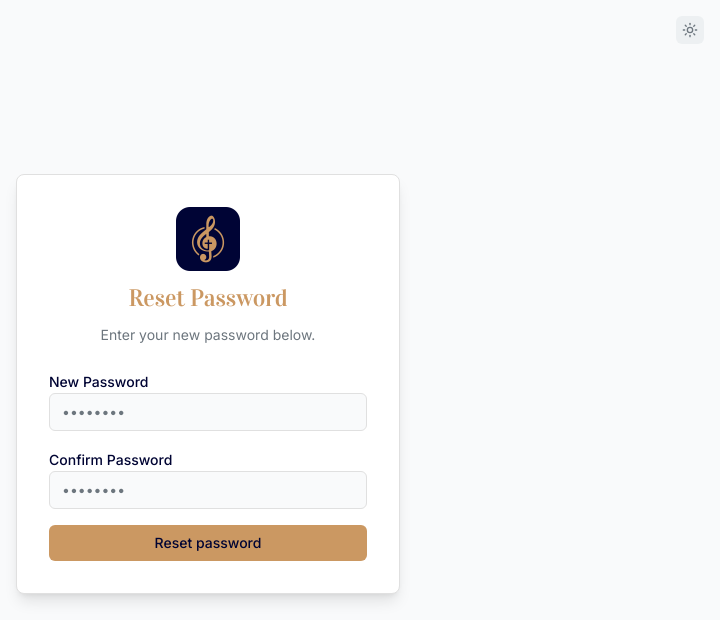
Scenario: ResetPasswordPage › negative — validation errors › disables button while resetting
Type "newpass1234" into the password field labelled "New Password". click: (208, 412)
box: x1=49 y1=393 x2=367 y2=431
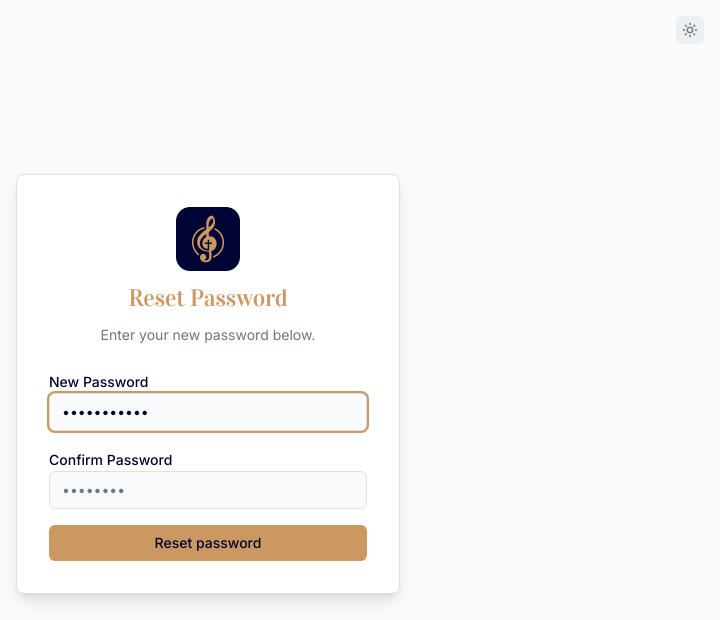
Type "newpass1234" into the password field labelled "Confirm Password". click: (208, 490)
box: x1=49 y1=471 x2=367 y2=509
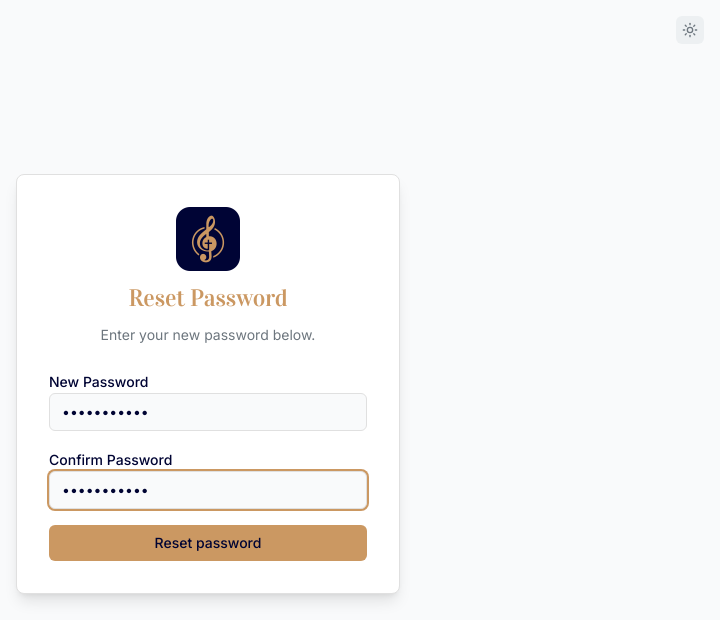
Click the button "Reset password". click: click(208, 543)
box: x1=49 y1=525 x2=367 y2=561
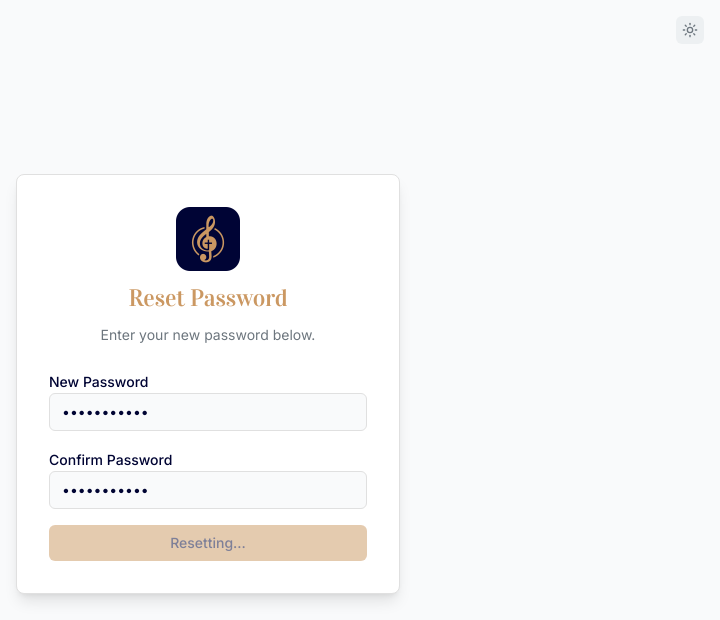
expect the button "Resetting..." is disabled: met, box x1=49 y1=525 x2=367 y2=561
